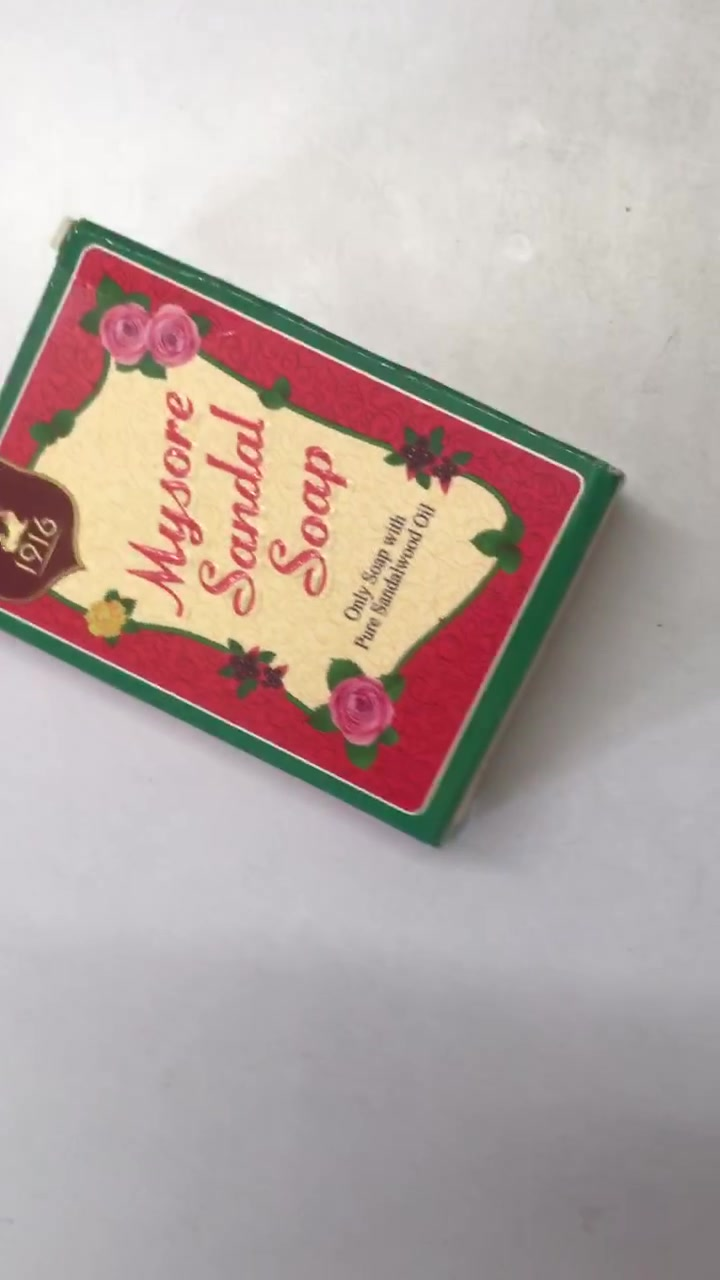mysore sandal soap: (3, 218, 627, 856)
